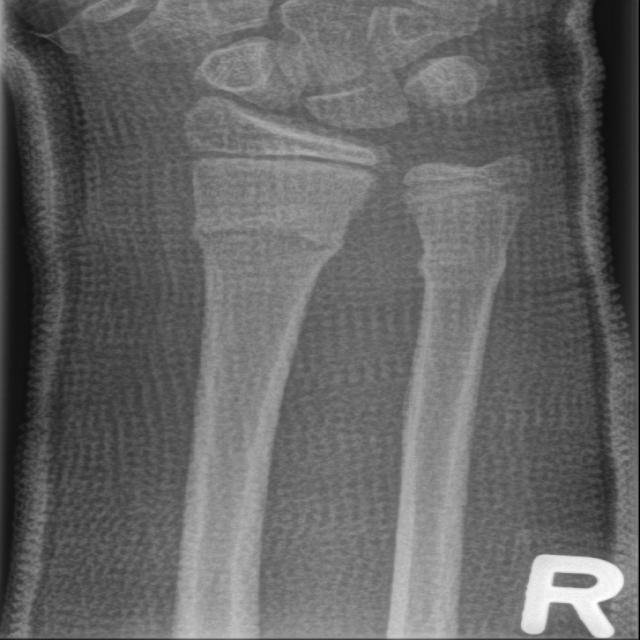radius fracture: (174, 197, 356, 326)
ulna fracture: (388, 222, 537, 328)
